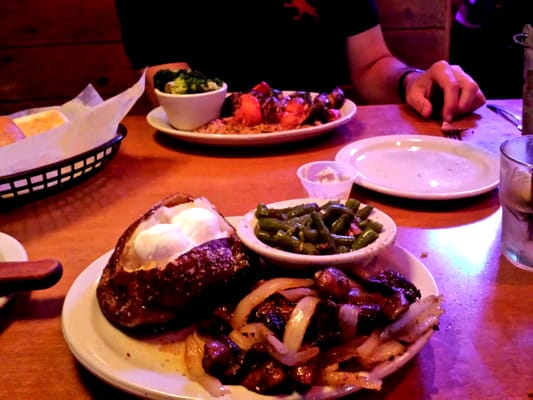pizza: (296, 161, 357, 204)
sushi: (231, 196, 398, 273), (148, 64, 229, 131)
